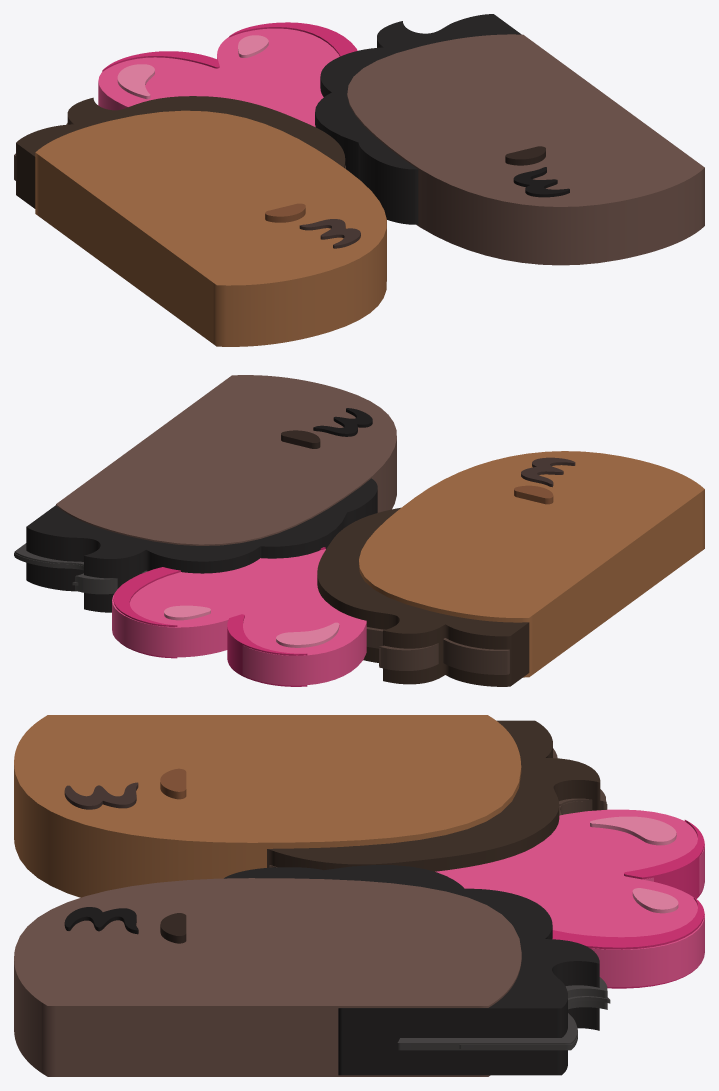
File: emoji_u1f9d1_1f3fe_200d_2764_200d_1f48b_200d_1f9d1_1f3ff.glb
3 renders of one model, top to bottom at view 1: azimuth 30°, elevation 25°; view 2: azimuth 150°, elevation 25°; view 3: azimuth 270°, elevation 25°, orthographic. The views are drawn at different scales.
Visible parts, largest first — view 1: emoji_u1f9d1_1f3fe_200d_2764_200d_1f48b_200d_1f9d1_1f3ff; view 2: emoji_u1f9d1_1f3fe_200d_2764_200d_1f48b_200d_1f9d1_1f3ff; view 3: emoji_u1f9d1_1f3fe_200d_2764_200d_1f48b_200d_1f9d1_1f3ff.
Boxes of the visible parts, x1,y1,x2,y2 form: emoji_u1f9d1_1f3fe_200d_2764_200d_1f48b_200d_1f9d1_1f3ff: [14, 14, 704, 346]; emoji_u1f9d1_1f3fe_200d_2764_200d_1f48b_200d_1f9d1_1f3ff: [14, 375, 704, 686]; emoji_u1f9d1_1f3fe_200d_2764_200d_1f48b_200d_1f9d1_1f3ff: [14, 715, 704, 1076].
Bounding box in the file's own units: 0.0339 × 0.0048 × 0.0336.
